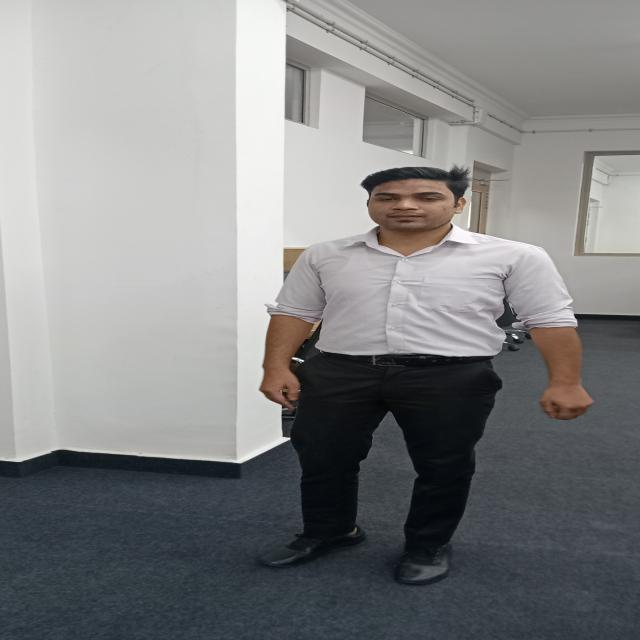unsafe: (272, 159, 586, 581)
